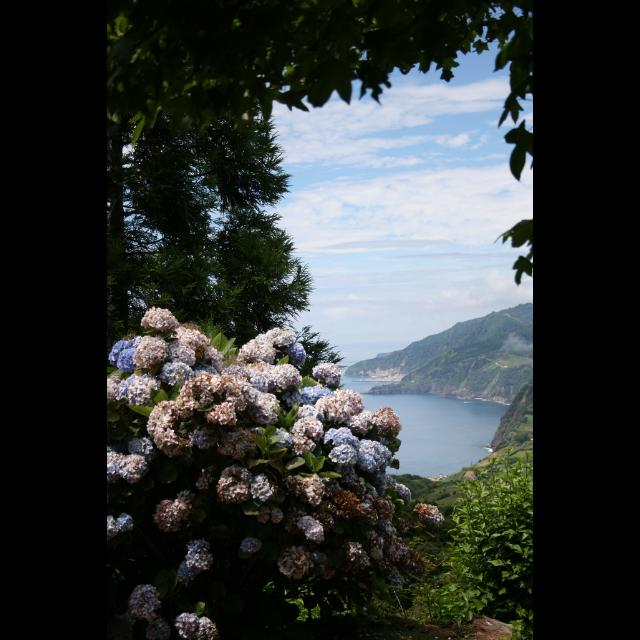Flower: (107, 307, 445, 639), (320, 430, 366, 480)
